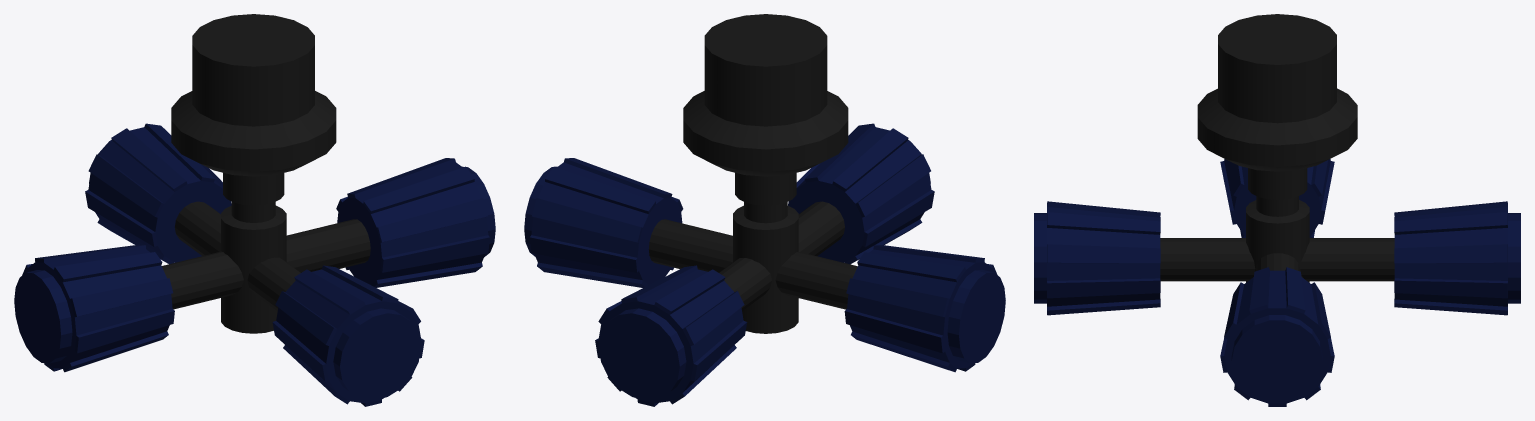
Rendered from stage5 sprinkler.fbx.
3 views of the same model, side by side, from view 1: azimuth 30°, elevation 25°; view 2: azimuth 150°, elevation 25°; view 3: azimuth 270°, elevation 25° (orthographic). The views are drawn at different scales.
Visible parts, largest first — view 1: Cylinder003; view 2: Cylinder003; view 3: Cylinder003.
Boxes of the visible parts, left/top/right/bottom form: Cylinder003: left=14, top=14, right=495, bottom=406; Cylinder003: left=524, top=14, right=1005, bottom=406; Cylinder003: left=1034, top=14, right=1520, bottom=406.
Bounding box in the file's own units: 14.76 × 14.76 × 9.07.
